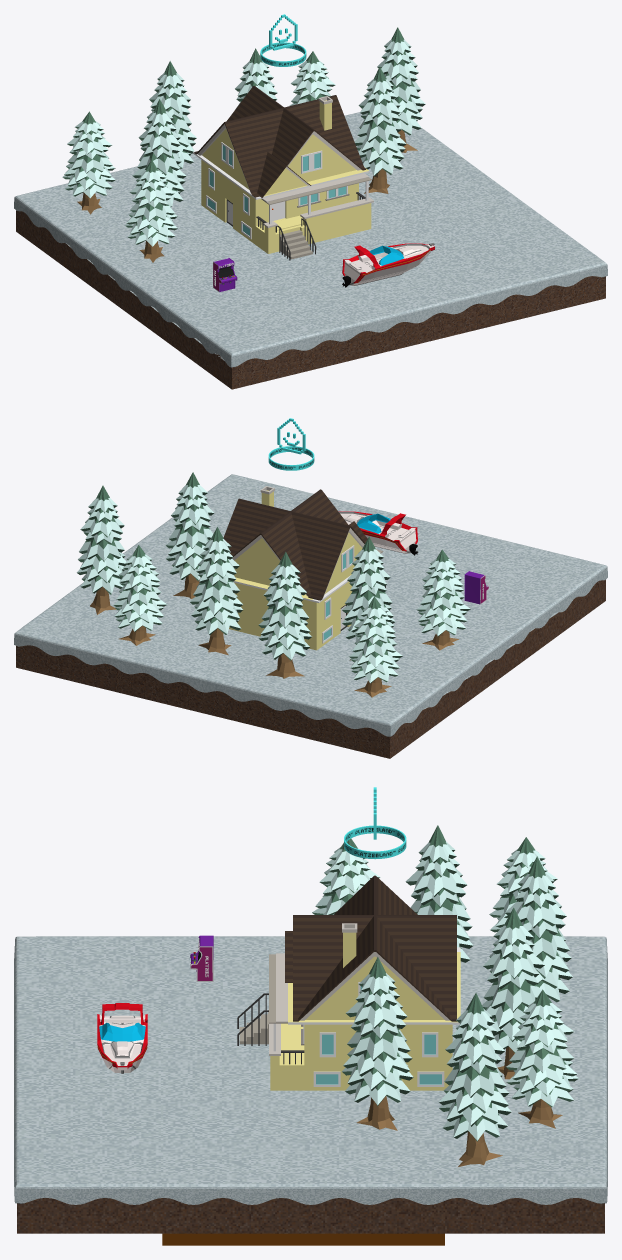
3 views of the same model, one above another, from view 1: azimuth 30°, elevation 25°; view 2: azimuth 150°, elevation 25°; view 3: azimuth 270°, elevation 25° (orthographic). The views are drawn at different scales.
Visible parts, largest first — view 1: Cube.003, Cube.1555, VEHICLES_BOAT, TYPE_PREMIUM, OBJRANDOM_ARCADE; view 2: Cube.003, Cube.1555, VEHICLES_BOAT, TYPE_PREMIUM, OBJRANDOM_ARCADE; view 3: Cube.003, Cube.1555, UNDERGROUND_ART_PIECE_VAN_GOGH, VEHICLES_BOAT, TYPE_PREMIUM, OBJRANDOM_ARCADE.
Part boxes in pixels (x1,y1,x2,y2): Cube.003: [14, 27, 607, 389]; Cube.1555: [193, 85, 373, 260]; VEHICLES_BOAT: [342, 243, 434, 287]; TYPE_PREMIUM: [260, 14, 306, 66]; OBJRANDOM_ARCADE: [213, 258, 237, 292]; Cube.003: [14, 472, 607, 758]; Cube.1555: [223, 486, 385, 650]; VEHICLES_BOAT: [339, 511, 418, 555]; TYPE_PREMIUM: [268, 418, 314, 470]; OBJRANDOM_ARCADE: [464, 571, 488, 604]; Cube.003: [14, 825, 607, 1233]; Cube.1555: [237, 875, 460, 1090]; UNDERGROUND_ART_PIECE_VAN_GOGH: [162, 1233, 444, 1245]; VEHICLES_BOAT: [97, 1003, 147, 1073]; TYPE_PREMIUM: [344, 787, 406, 859]; OBJRANDOM_ARCADE: [190, 935, 213, 981].
Size of the model in its own units: 4040 by 2593 by 4040.
35 materials, 5 textured.
